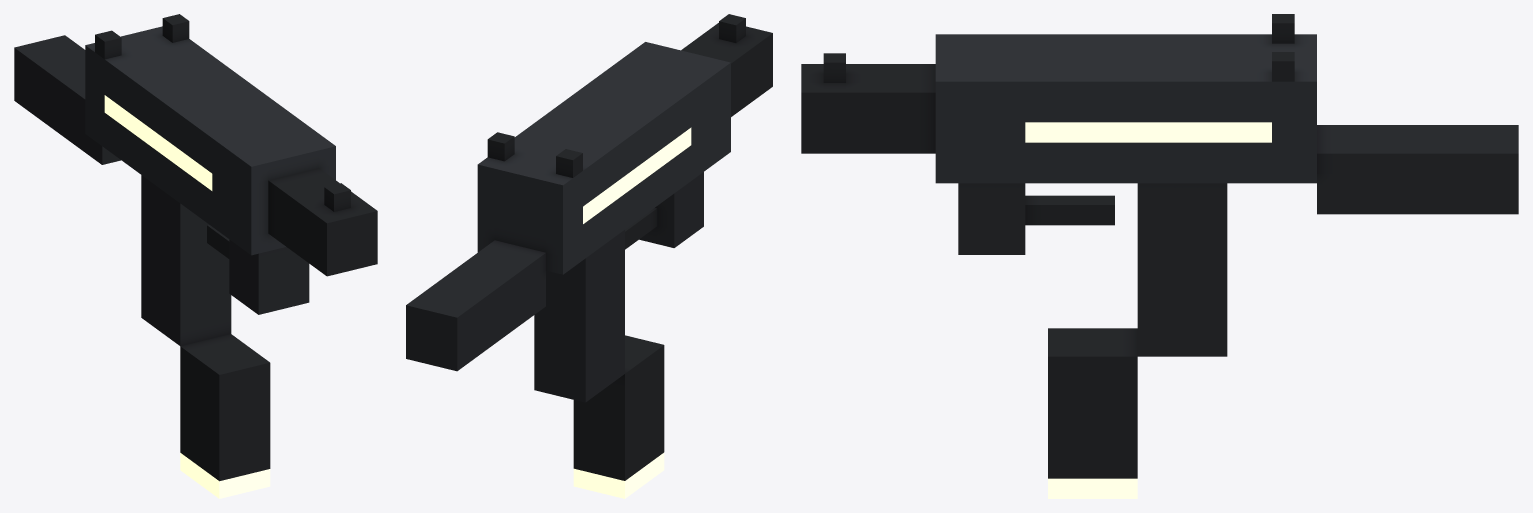
The model's file is zipper_legendary.glb.
The picture shows the model from 3 angles, left to right: view 1: azimuth 30°, elevation 25°; view 2: azimuth 150°, elevation 25°; view 3: azimuth 270°, elevation 25°; orthographic projection. The views are drawn at different scales.
Parts seen in each view (by area): view 1: zipper_legendary_body; view 2: zipper_legendary_body; view 3: zipper_legendary_body.
Part boxes in pixels (x1=…): zipper_legendary_body: x1=14, y1=14, x2=377, y2=498; zipper_legendary_body: x1=406, y1=14, x2=772, y2=498; zipper_legendary_body: x1=801, y1=14, x2=1518, y2=498.
Size of the model in its own units: 0.1953 by 0.8594 by 1.25.
Materials: 1 (1 with a texture image).
